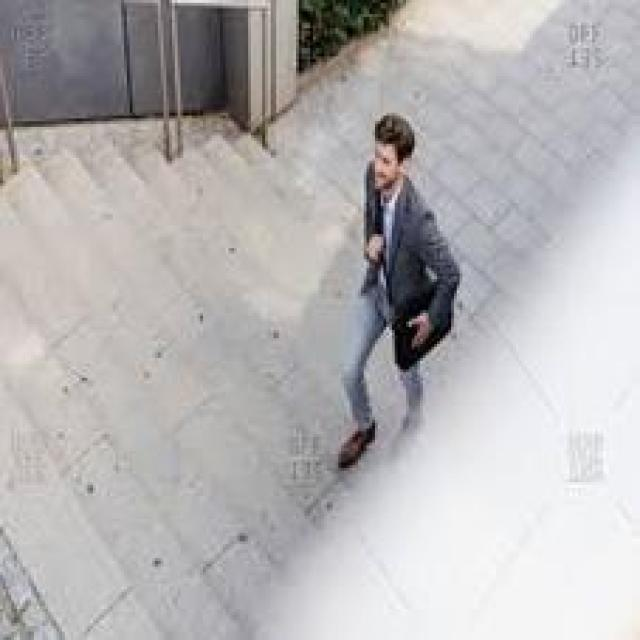upstair: (12, 193, 379, 523)
